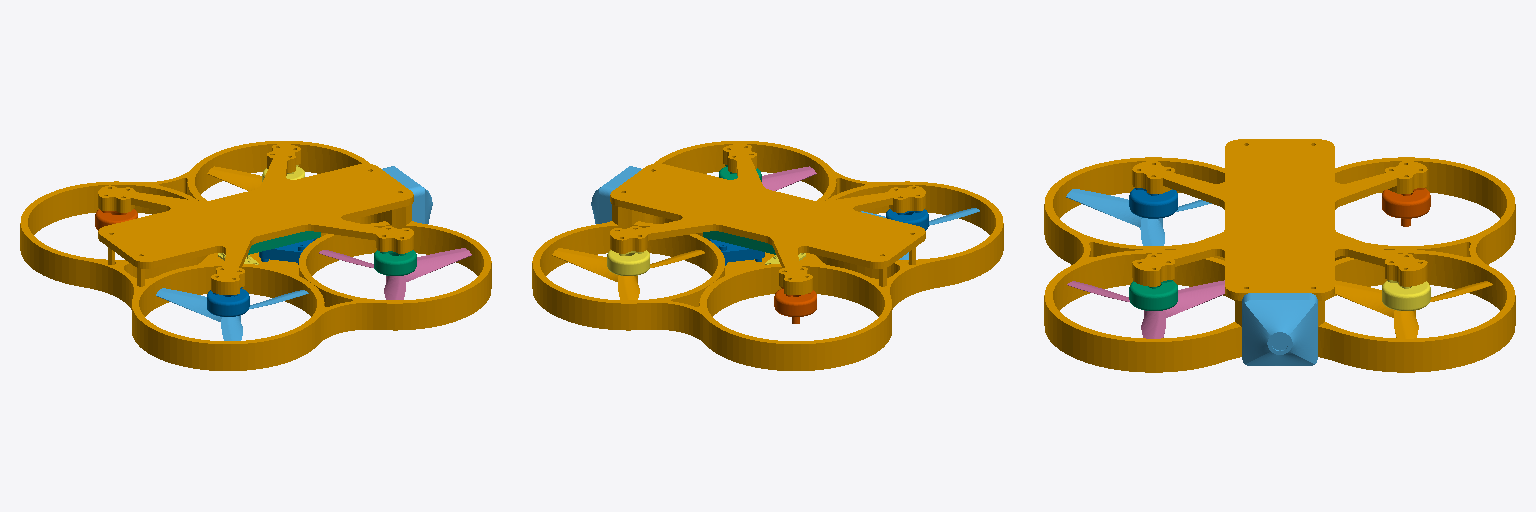
The robot description file, URDF, robot "CINEWHOOP_4.5":
<?xml version='1.0' encoding='utf-8'?>
<robot name="CINEWHOOP_4.5">
    <link name="frame_4.5">
        <inertial>
            <origin xyz="0.0030291193216684465 4.153273349654646e-06 0.018332329913369583" rpy="0.0 0.0 0.0" />
            <mass value="0.46559043380318527" />
            <inertia ixx="0.0021744778498765994" iyy="0.002488853720756953" izz="0.004457899881763257" ixy="-1.832858723255757e-07" iyz="-1.822494627435283e-08" ixz="-1.4123664265542227e-05" />
        </inertial>
        <visual name="frame_4.5_visual">
            <origin xyz="0.0 0.0 0.0" rpy="0.0 0.0 0.0" />
            <geometry>
                <mesh filename="meshes/frame_4.5.stl" scale="0.001 0.001 0.001" />
            </geometry>
        </visual>
        <collision name="frame_4.5_collision">
            <origin xyz="0.0 0.0 0.0" rpy="0.0 0.0 0.0" />
            <geometry>
                <mesh filename="meshes/frame_4.5.stl" scale="0.001 0.001 0.001" />
            </geometry>
        </collision>
    </link>
    <link name="siyi_ip_camera">
        <inertial>
            <origin xyz="-2.9982355752345224e-15 -0.021499999999999995 0.009130708053061376" rpy="0.0 -0.0 0.0" />
            <mass value="0.034531703811389286" />
            <inertia ixx="5.620390098305889e-06" iyy="6.027604506851181e-06" izz="9.243528630677994e-06" ixy="-1.0270543032082753e-11" iyz="0.0" ixz="6.793866408844889e-19" />
        </inertial>
        <visual name="siyi_ip_camera_visual">
            <origin xyz="-1.7275070263167436e-15 -0.021499999999999995 -6.119593187747797e-10" rpy="-1.5707963267948968 -2.8372366184865045e-16 4.417951470996925e-18" />
            <geometry>
                <mesh filename="meshes/siyi_ip_camera.stl" scale="0.001 0.001 0.001" />
            </geometry>
        </visual>
        <collision name="siyi_ip_camera_collision">
            <origin xyz="-1.7275070263167436e-15 -0.021499999999999995 -6.119593187747797e-10" rpy="-1.5707963267948968 -2.8372366184865045e-16 4.417951470996925e-18" />
            <geometry>
                <mesh filename="meshes/siyi_ip_camera.stl" scale="0.001 0.001 0.001" />
            </geometry>
        </collision>
    </link>
    <link name="motor_fr">
        <inertial>
            <origin xyz="3.0628261793452793e-09 1.977455985624488e-09 0.01019616366972623" rpy="0.0 -0.0 0.0" />
            <mass value="0.02166445211752593" />
            <inertia ixx="1.4216377839395243e-06" iyy="1.4216377839314741e-06" izz="2.0339490705062653e-06" ixy="1.2739375526704677e-18" iyz="-2.303929616531697e-19" ixz="-1.2739375526704677e-18" />
        </inertial>
        <visual name="motor_fr_visual">
            <origin xyz="0.209851173354724 -0.038055586353406834 0.0025000000000000356" rpy="-2.5086670123025916e-18 -2.6367796834847463e-16 0.0" />
            <geometry>
                <mesh filename="meshes/motor_fr.stl" scale="0.001 0.001 0.001" />
            </geometry>
        </visual>
        <collision name="motor_fr_collision">
            <origin xyz="0.209851173354724 -0.038055586353406834 0.0025000000000000356" rpy="-2.5086670123025916e-18 -2.6367796834847463e-16 0.0" />
            <geometry>
                <mesh filename="meshes/motor_fr.stl" scale="0.001 0.001 0.001" />
            </geometry>
        </collision>
    </link>
    <link name="motor_fl">
        <inertial>
            <origin xyz="3.281256777398767e-09 -2.44049362940757e-09 0.010196163669726236" rpy="0.0 -0.0 0.0" />
            <mass value="0.02166445211752592" />
            <inertia ixx="1.4216377839396327e-06" iyy="1.4216377839309591e-06" izz="2.0339490705053437e-06" ixy="1.5043305143236374e-18" iyz="-2.303929616531697e-19" ixz="-1.3349239248727773e-18" />
        </inertial>
        <visual name="motor_fl_visual">
            <origin xyz="0.20985117335473497 -0.03805559079046382 0.002499999999999956" rpy="8.277567197724743e-19 1.3877787807814454e-16 0.0" />
            <geometry>
                <mesh filename="meshes/motor_fl.stl" scale="0.001 0.001 0.001" />
            </geometry>
        </visual>
        <collision name="motor_fl_collision">
            <origin xyz="0.20985117335473497 -0.03805559079046382 0.002499999999999956" rpy="8.277567197724743e-19 1.3877787807814454e-16 0.0" />
            <geometry>
                <mesh filename="meshes/motor_fl.stl" scale="0.001 0.001 0.001" />
            </geometry>
        </collision>
    </link>
    <link name="motor_rr">
        <inertial>
            <origin xyz="-4.283884837974483e-09 2.4197733150543857e-09 0.01019616366972624" rpy="0.0 -0.0 0.0" />
            <mass value="0.02166445211752593" />
            <inertia ixx="1.4216377839395514e-06" iyy="1.4216377839304306e-06" izz="2.033949070506184e-06" ixy="1.179069862577986e-18" iyz="-2.439454888092385e-19" ixz="-1.3010426069826053e-18" />
        </inertial>
        <visual name="motor_rr_visual">
            <origin xyz="0.20985116604671358 -0.03805558635341779 0.0025000000000000087" rpy="-1.2043865472767129e-17 -9.714451465470125e-17 2.4651903288156635e-32" />
            <geometry>
                <mesh filename="meshes/motor_rr.stl" scale="0.001 0.001 0.001" />
            </geometry>
        </visual>
        <collision name="motor_rr_collision">
            <origin xyz="0.20985116604671358 -0.03805558635341779 0.0025000000000000087" rpy="-1.2043865472767129e-17 -9.714451465470125e-17 2.4651903288156635e-32" />
            <geometry>
                <mesh filename="meshes/motor_rr.stl" scale="0.001 0.001 0.001" />
            </geometry>
        </collision>
    </link>
    <link name="motor_rl">
        <inertial>
            <origin xyz="-4.065454168866722e-09 -1.9981762289233986e-09 0.010196163669726236" rpy="0.0 -0.0 0.0" />
            <mass value="0.02166445211752593" />
            <inertia ixx="1.4216377839396056e-06" iyy="1.42163778393142e-06" izz="2.033949070506401e-06" ixy="1.3823577699190182e-18" iyz="-2.371692252312041e-19" ixz="-1.3417001884508117e-18" />
        </inertial>
        <visual name="motor_rl_visual">
            <origin xyz="0.20985116604672452 -0.03805559079047472 0.0024999999999999823" rpy="0.0 -0.0 0.0" />
            <geometry>
                <mesh filename="meshes/motor_rl.stl" scale="0.001 0.001 0.001" />
            </geometry>
        </visual>
        <collision name="motor_rl_collision">
            <origin xyz="0.20985116604672452 -0.03805559079047472 0.0024999999999999823" rpy="0.0 -0.0 0.0" />
            <geometry>
                <mesh filename="meshes/motor_rl.stl" scale="0.001 0.001 0.001" />
            </geometry>
        </collision>
    </link>
    <link name="prop_ccw_1">
        <inertial>
            <origin xyz="1.0413838978706735e-07 -9.717821981780617e-08 -0.0036339636870820445" rpy="0.0 -0.0 0.0" />
            <mass value="0.003055288032744085" />
            <inertia ixx="9.386423608052269e-07" iyy="9.386625365933894e-07" izz="1.8144437132977562e-06" ixy="-2.4687616368383866e-12" iyz="7.361053689097926e-13" ixz="-1.0264157103399038e-12" />
        </inertial>
        <visual name="prop_ccw_1_visual">
            <origin xyz="3.0628218361528073e-09 -1.9774551685003415e-09 -0.023500000000000073" rpy="-4.8570128095075863e-17 -7.21644966006352e-16 -9.720794061142923e-48" />
            <geometry>
                <mesh filename="meshes/prop_ccw_1.stl" scale="0.001 0.001 0.001" />
            </geometry>
        </visual>
        <collision name="prop_ccw_1_collision">
            <origin xyz="3.0628218361528073e-09 -1.9774551685003415e-09 -0.023500000000000073" rpy="-4.8570128095075863e-17 -7.21644966006352e-16 -9.720794061142923e-48" />
            <geometry>
                <mesh filename="meshes/prop_ccw_1.stl" scale="0.001 0.001 0.001" />
            </geometry>
        </collision>
    </link>
    <link name="prop_ccw_2">
        <inertial>
            <origin xyz="9.701010939444643e-08 -9.320258760325828e-08 -0.0036339636870819404" rpy="0.0 -0.0 0.0" />
            <mass value="0.003055288032744085" />
            <inertia ixx="9.386423608052303e-07" iyy="9.386625365933809e-07" izz="1.8144437132977528e-06" ixy="-2.4687616351443207e-12" iyz="7.361053693333091e-13" ixz="-1.0264157086458379e-12" />
        </inertial>
        <visual name="prop_ccw_2_visual">
            <origin xyz="-4.0654585653499e-09 1.9981770460475446e-09 -0.023499999999999948" rpy="-1.2352531617612977e-16 -7.415942859800849e-16 0.0" />
            <geometry>
                <mesh filename="meshes/prop_ccw_2.stl" scale="0.001 0.001 0.001" />
            </geometry>
        </visual>
        <collision name="prop_ccw_2_collision">
            <origin xyz="-4.0654585653499e-09 1.9981770460475446e-09 -0.023499999999999948" rpy="-1.2352531617612977e-16 -7.415942859800849e-16 0.0" />
            <geometry>
                <mesh filename="meshes/prop_ccw_2.stl" scale="0.001 0.001 0.001" />
            </geometry>
        </collision>
    </link>
    <link name="prop_cw_1">
        <inertial>
            <origin xyz="1.0435682070486508e-07 -9.764125941558177e-08 0.00363396367966464" rpy="0.0 -0.0 0.0" />
            <mass value="0.0030552880224177003" />
            <inertia ixx="9.386423600392957e-07" iyy="9.386625350965484e-07" izz="1.8144437124096896e-06" ixy="-2.4687616368383866e-12" iyz="-7.361053689107699e-13" ixz="1.0264157052576619e-12" />
        </inertial>
        <visual name="prop_cw_1_visual">
            <origin xyz="3.281252372033805e-09 -2.4404944820588528e-09 0.02349999999999988" rpy="3.1415926535897922 -1.7347234759768133e-17 -1.935877736204715e-35" />
            <geometry>
                <mesh filename="meshes/prop_cw_1.stl" scale="0.001 0.001 0.001" />
            </geometry>
        </visual>
        <collision name="prop_cw_1_collision">
            <origin xyz="3.281252372033805e-09 -2.4404944820588528e-09 0.02349999999999988" rpy="3.1415926535897922 -1.7347234759768133e-17 -1.935877736204715e-35" />
            <geometry>
                <mesh filename="meshes/prop_cw_1.stl" scale="0.001 0.001 0.001" />
            </geometry>
        </collision>
    </link>
    <link name="prop_cw_2">
        <inertial>
            <origin xyz="1.0005071576557612e-07 9.824799163560271e-08 -0.0036339636796647225" rpy="0.0 -0.0 1.2154326714572545e-63" />
            <mass value="0.0030552880224177003" />
            <inertia ixx="9.386423600392955e-07" iyy="9.386625350965416e-07" izz="1.8144437124096994e-06" ixy="2.4687616334502544e-12" iyz="-7.361053667922101e-13" ixz="-1.0264157056812222e-12" />
        </inertial>
        <visual name="prop_cw_2_visual">
            <origin xyz="-1.0248525672551522e-09 3.0472267020797974e-09 -0.023500000000000007" rpy="-1.2246467991473532e-16 -1.2325951644078312e-32 -2.465190328815665e-32" />
            <geometry>
                <mesh filename="meshes/prop_cw_2.stl" scale="0.001 0.001 0.001" />
            </geometry>
        </visual>
        <collision name="prop_cw_2_collision">
            <origin xyz="-1.0248525672551522e-09 3.0472267020797974e-09 -0.023500000000000007" rpy="-1.2246467991473532e-16 -1.2325951644078312e-32 -2.465190328815665e-32" />
            <geometry>
                <mesh filename="meshes/prop_cw_2.stl" scale="0.001 0.001 0.001" />
            </geometry>
        </collision>
    </link>
    <link name="siyi_air_unit">
        <inertial>
            <origin xyz="-1.4357249689426685e-09 1.6475709685437323e-15 0.005836379592726941" rpy="0.0 -0.0 0.0" />
            <mass value="0.04557472080298034" />
            <inertia ixx="1.119309465611787e-05" iyy="1.7609661308200556e-05" izz="2.7547878553966782e-05" ixy="-3.35590928358435e-20" iyz="-1.963493381101992e-20" ixz="-3.68012654524842e-21" />
        </inertial>
        <visual name="siyi_air_unit_visual">
            <origin xyz="-0.03500000143572493 -0.027499999999998335 -3.1086244689504386e-17" rpy="-1.6211328398951438e-16 4.85722573273506e-17 3.081487911019581e-33" />
            <geometry>
                <mesh filename="meshes/siyi_air_unit.stl" scale="0.001 0.001 0.001" />
            </geometry>
        </visual>
        <collision name="siyi_air_unit_collision">
            <origin xyz="-0.03500000143572493 -0.027499999999998335 -3.1086244689504386e-17" rpy="-1.6211328398951438e-16 4.85722573273506e-17 3.081487911019581e-33" />
            <geometry>
                <mesh filename="meshes/siyi_air_unit.stl" scale="0.001 0.001 0.001" />
            </geometry>
        </collision>
    </link>
    <link name="mtf_01">
        <inertial>
            <origin xyz="-0.001839985164880842 -0.0050844606342186 -0.007731347649063487" rpy="0.0 -0.0 0.0" />
            <mass value="0.013295325356687966" />
            <inertia ixx="6.753309825448112e-07" iyy="3.979094943134081e-07" izz="7.718463119550795e-07" ixy="-8.837653376545054e-09" iyz="-1.767582403787081e-08" ixz="-4.769354147986148e-08" />
        </inertial>
        <visual name="mtf_01_visual">
            <origin xyz="0.012169801925407644 0.0024333557774289384 -0.011279042763823459" rpy="-1.7484555274184362e-07 -8.742277595534357e-08 3.141592653589793" />
            <geometry>
                <mesh filename="meshes/mtf_01.stl" scale="0.001 0.001 0.001" />
            </geometry>
        </visual>
        <collision name="mtf_01_collision">
            <origin xyz="0.012169801925407644 0.0024333557774289384 -0.011279042763823459" rpy="-1.7484555274184362e-07 -8.742277595534357e-08 3.141592653589793" />
            <geometry>
                <mesh filename="meshes/mtf_01.stl" scale="0.001 0.001 0.001" />
            </geometry>
        </collision>
    </link>
    <link name="speedybee_f405_aio">
        <inertial>
            <origin xyz="0.02499999986685737 -6.119755260186599e-10 0.007000000000000002" rpy="0.0 -0.0 0.0" />
            <mass value="0.009431279583242714" />
            <inertia ixx="9.213199669108757e-07" iyy="9.213199669108795e-07" izz="1.7205006077067406e-06" ixy="9.879954062212462e-10" iyz="-4.5366444026174124e-23" ixz="4.235164736271502e-22" />
        </inertial>
        <visual name="speedybee_f405_aio_visual">
            <origin xyz="0.027533154453973765 0.0004322813446612961 0.003000000000000005" rpy="-4.08636269416162e-16 8.649843312289846e-32 2.465190328815663e-32" />
            <geometry>
                <mesh filename="meshes/speedybee_f405_aio.stl" scale="0.001 0.001 0.001" />
            </geometry>
        </visual>
        <collision name="speedybee_f405_aio_collision">
            <origin xyz="0.027533154453973765 0.0004322813446612961 0.003000000000000005" rpy="-4.08636269416162e-16 8.649843312289846e-32 2.465190328815663e-32" />
            <geometry>
                <mesh filename="meshes/speedybee_f405_aio.stl" scale="0.001 0.001 0.001" />
            </geometry>
        </collision>
    </link>
    <joint name="frame_4.5_Rígida-2" type="fixed">
        <origin xyz="0.108166 0.0 0.042" rpy="1.5707963267948966 -0.0 1.570796326794897" />
        <parent link="frame_4.5" />
        <child link="siyi_ip_camera" />
    </joint>
    <joint name="frame_4.5_Rígida-3" type="fixed">
        <origin xyz="0.065079 -0.07499999 0.032" rpy="3.141592653589793 -0.0 0.0" />
        <parent link="frame_4.5" />
        <child link="motor_fr" />
    </joint>
    <joint name="frame_4.5_Rígida-4" type="fixed">
        <origin xyz="0.065079 0.07499999 0.032" rpy="3.141592653589793 -0.0 0.0" />
        <parent link="frame_4.5" />
        <child link="motor_fl" />
    </joint>
    <joint name="frame_4.5_Rígida-5" type="fixed">
        <origin xyz="-0.065079 0.07499999 0.032" rpy="3.141592653589793 -0.0 0.0" />
        <parent link="frame_4.5" />
        <child link="motor_rl" />
    </joint>
    <joint name="frame_4.5_Rígida-6" type="fixed">
        <origin xyz="-0.065079 -0.07499999 0.032" rpy="3.141592653589793 -0.0 0.0" />
        <parent link="frame_4.5" />
        <child link="motor_rr" />
    </joint>
    <joint name="motor_fr_Revolución-7" type="continuous">
        <origin xyz="0.0 0.0 0.016" rpy="-3.141592653589793 -4.930380657631324e-32 0.0" />
        <parent link="motor_fr" />
        <child link="prop_ccw_1" />
        <axis xyz="4.930380657631324e-32 -3.851859888774472e-34 -1.0" />
    </joint>
    <joint name="motor_rl_Revolución-8" type="continuous">
        <origin xyz="0.0 0.0 0.016" rpy="3.141592653589793 -0.0 0.0" />
        <parent link="motor_rl" />
        <child link="prop_ccw_2" />
        <axis xyz="0.0 0.0 -1.0" />
    </joint>
    <joint name="motor_fl_Revolución-9" type="continuous">
        <origin xyz="0.0 0.0 0.016" rpy="-1.1159575361799988e-18 -2.465190328815662e-32 3.0385816786431356e-64" />
        <parent link="motor_fl" />
        <child link="prop_cw_1" />
        <axis xyz="-2.465190328815662e-32 1.1159575361799988e-18 -1.0" />
    </joint>
    <joint name="motor_rr_Revolución-10" type="continuous">
        <origin xyz="0.0029544200000000045 0.0005209500000000045 0.016" rpy="-3.141592653589793 -1.2325951644078312e-32 -5.780645640606276e-48" />
        <parent link="motor_rr" />
        <child link="prop_cw_2" />
        <axis xyz="1.232595164407831e-32 -1.5407439555097887e-33 -0.9999999999999999" />
    </joint>
    <joint name="frame_4.5_Rígida-11" type="fixed">
        <origin xyz="-3.36e-06 0.0 0.037000000000000005" rpy="3.141592653589793 -0.0 0.0" />
        <parent link="frame_4.5" />
        <child link="siyi_air_unit" />
    </joint>
    <joint name="frame_4.5_Rígida-12" type="fixed">
        <origin xyz="-0.010767690000000002 -0.00509334 0.0" rpy="3.141592653589793 -0.0 0.0" />
        <parent link="frame_4.5" />
        <child link="mtf_01" />
    </joint>
    <joint name="frame_4.5_Rígida-13" type="fixed">
        <origin xyz="0.0 0.0 0.005" rpy="0.0 -0.0 0.0" />
        <parent link="frame_4.5" />
        <child link="speedybee_f405_aio" />
    </joint>
</robot>

--- What the picture shows (computed from the rendered views, not written in the file) ---
Views: 3 orthographic renders of the robot side by side, from view 1: azimuth 30°, elevation 25°; view 2: azimuth 150°, elevation 25°; view 3: azimuth 270°, elevation 25°.
Robot: CINEWHOOP_4.5 — 13 links, 12 joints (4 continuous, 8 fixed); root link frame_4.5; default pose: all joints at 0.
Visible links, largest first — view 1: frame_4.5, prop_ccw_1, prop_cw_2, siyi_ip_camera, motor_fr, motor_rr, prop_cw_1, siyi_air_unit, speedybee_f405_aio, motor_rl; view 2: frame_4.5, prop_cw_1, motor_rl, siyi_ip_camera, motor_fl, prop_ccw_1, siyi_air_unit, speedybee_f405_aio, motor_rr; view 3: frame_4.5, siyi_ip_camera, prop_ccw_1, prop_cw_1, prop_cw_2, motor_rl, motor_rr, motor_fl, motor_fr.
Link boxes in pixels (<box>): frame_4.5: <box>20,141,491,370</box>; prop_ccw_1: <box>319,248,471,299</box>; prop_cw_2: <box>156,288,308,340</box>; siyi_ip_camera: <box>382,166,432,223</box>; motor_fr: <box>374,250,416,275</box>; motor_rr: <box>207,287,249,316</box>; prop_cw_1: <box>207,166,261,190</box>; siyi_air_unit: <box>248,231,320,254</box>; speedybee_f405_aio: <box>259,238,316,264</box>; motor_rl: <box>95,209,137,230</box>; frame_4.5: <box>532,141,1003,370</box>; prop_cw_1: <box>552,248,704,299</box>; motor_rl: <box>774,287,816,323</box>; siyi_ip_camera: <box>591,166,641,223</box>; motor_fl: <box>607,250,649,275</box>; prop_ccw_1: <box>762,166,816,190</box>; siyi_air_unit: <box>703,231,775,254</box>; speedybee_f405_aio: <box>707,238,764,265</box>; motor_rr: <box>886,209,928,230</box>; frame_4.5: <box>1044,139,1515,372</box>; siyi_ip_camera: <box>1242,293,1317,365</box>; prop_ccw_1: <box>1067,280,1224,338</box>; prop_cw_1: <box>1335,280,1492,338</box>; prop_cw_2: <box>1066,189,1211,245</box>; motor_rl: <box>1382,188,1430,226</box>; motor_rr: <box>1129,188,1177,218</box>; motor_fl: <box>1382,280,1430,310</box>; motor_fr: <box>1129,280,1177,310</box>.
Size in the robot's own frame: 0.2632 by 0.28 by 0.043 metres.
12 mesh visuals loaded from 13 distinct referenced files (12 binary STL); not drawn: 1 (reference not matched to a file when rendering).
